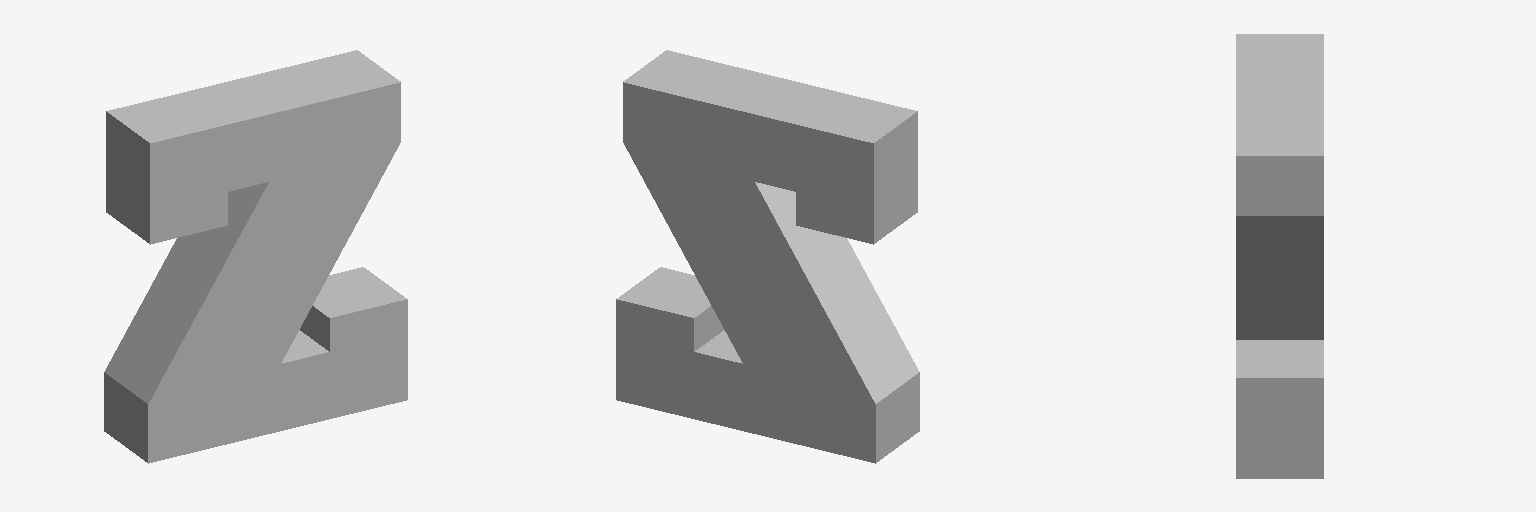
3 renders of one model, left to right at view 1: azimuth 30°, elevation 25°; view 2: azimuth 150°, elevation 25°; view 3: azimuth 270°, elevation 25°, orthographic.
Parts seen in each view (by area): view 1: text: ABCDEFGHIJKLMNOPQRSTUVWXYZ[number redacted]; view 2: text: ABCDEFGHIJKLMNOPQRSTUVWXYZ[number redacted]; view 3: text: ABCDEFGHIJKLMNOPQRSTUVWXYZ[number redacted].
Part boxes in pixels (bbox=[...]): text: ABCDEFGHIJKLMNOPQRSTUVWXYZ[number redacted]: bbox=[104, 50, 407, 463]; text: ABCDEFGHIJKLMNOPQRSTUVWXYZ[number redacted]: bbox=[616, 50, 919, 463]; text: ABCDEFGHIJKLMNOPQRSTUVWXYZ[number redacted]: bbox=[1236, 34, 1323, 478].
Bounding box in the file's own units: 84.96 × 100 × 25.